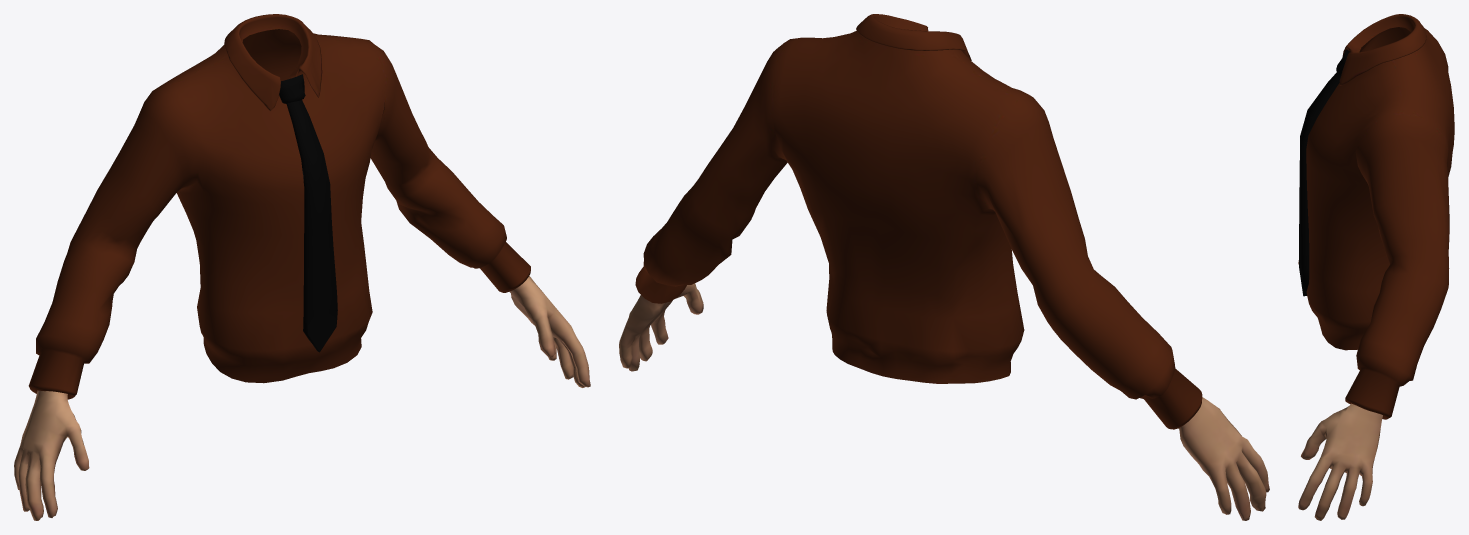
The model's file is 231101_G_Torso_02.glb.
The picture shows the model from 3 angles, left to right: view 1: azimuth 30°, elevation 25°; view 2: azimuth 150°, elevation 25°; view 3: azimuth 270°, elevation 25°; orthographic projection. The views are drawn at different scales.
Visible parts, largest first — view 1: G_Torso_02; view 2: G_Torso_02; view 3: G_Torso_02.
Part boxes in pixels (x1,y1,x2,y2): G_Torso_02: (14, 14, 590, 520); G_Torso_02: (619, 14, 1269, 520); G_Torso_02: (1298, 14, 1454, 520).
Bounding box in the file's own units: 1.06 × 0.7276 × 0.2779.
1 material, 1 textured.
